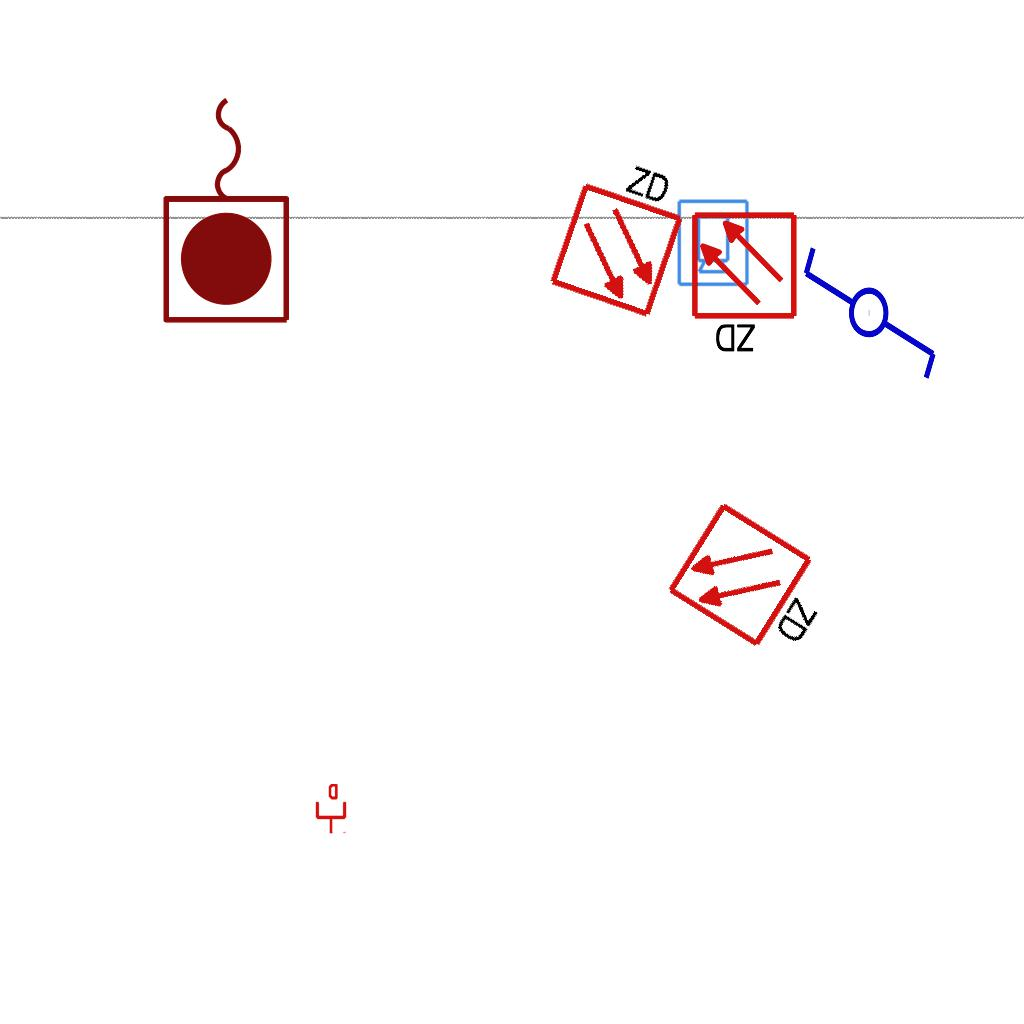Datenanschluss_einfach: (314, 784, 348, 834)
KFO_Kamera_mit_Festobjektiv: (674, 197, 751, 288)
Wechselschalter: (799, 226, 943, 383)
ZD_Melder_in_Zwischendecke_mit_Revisionsoeffnung_mind_40_x_40_cm: (663, 495, 851, 672), (542, 142, 700, 321), (689, 210, 803, 359)
Zugtaster: (156, 87, 300, 331)
